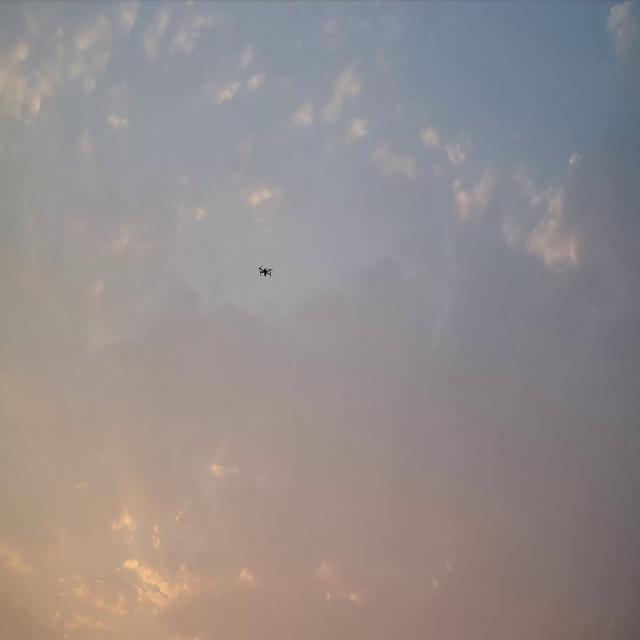UAV: (257, 264, 273, 278)
